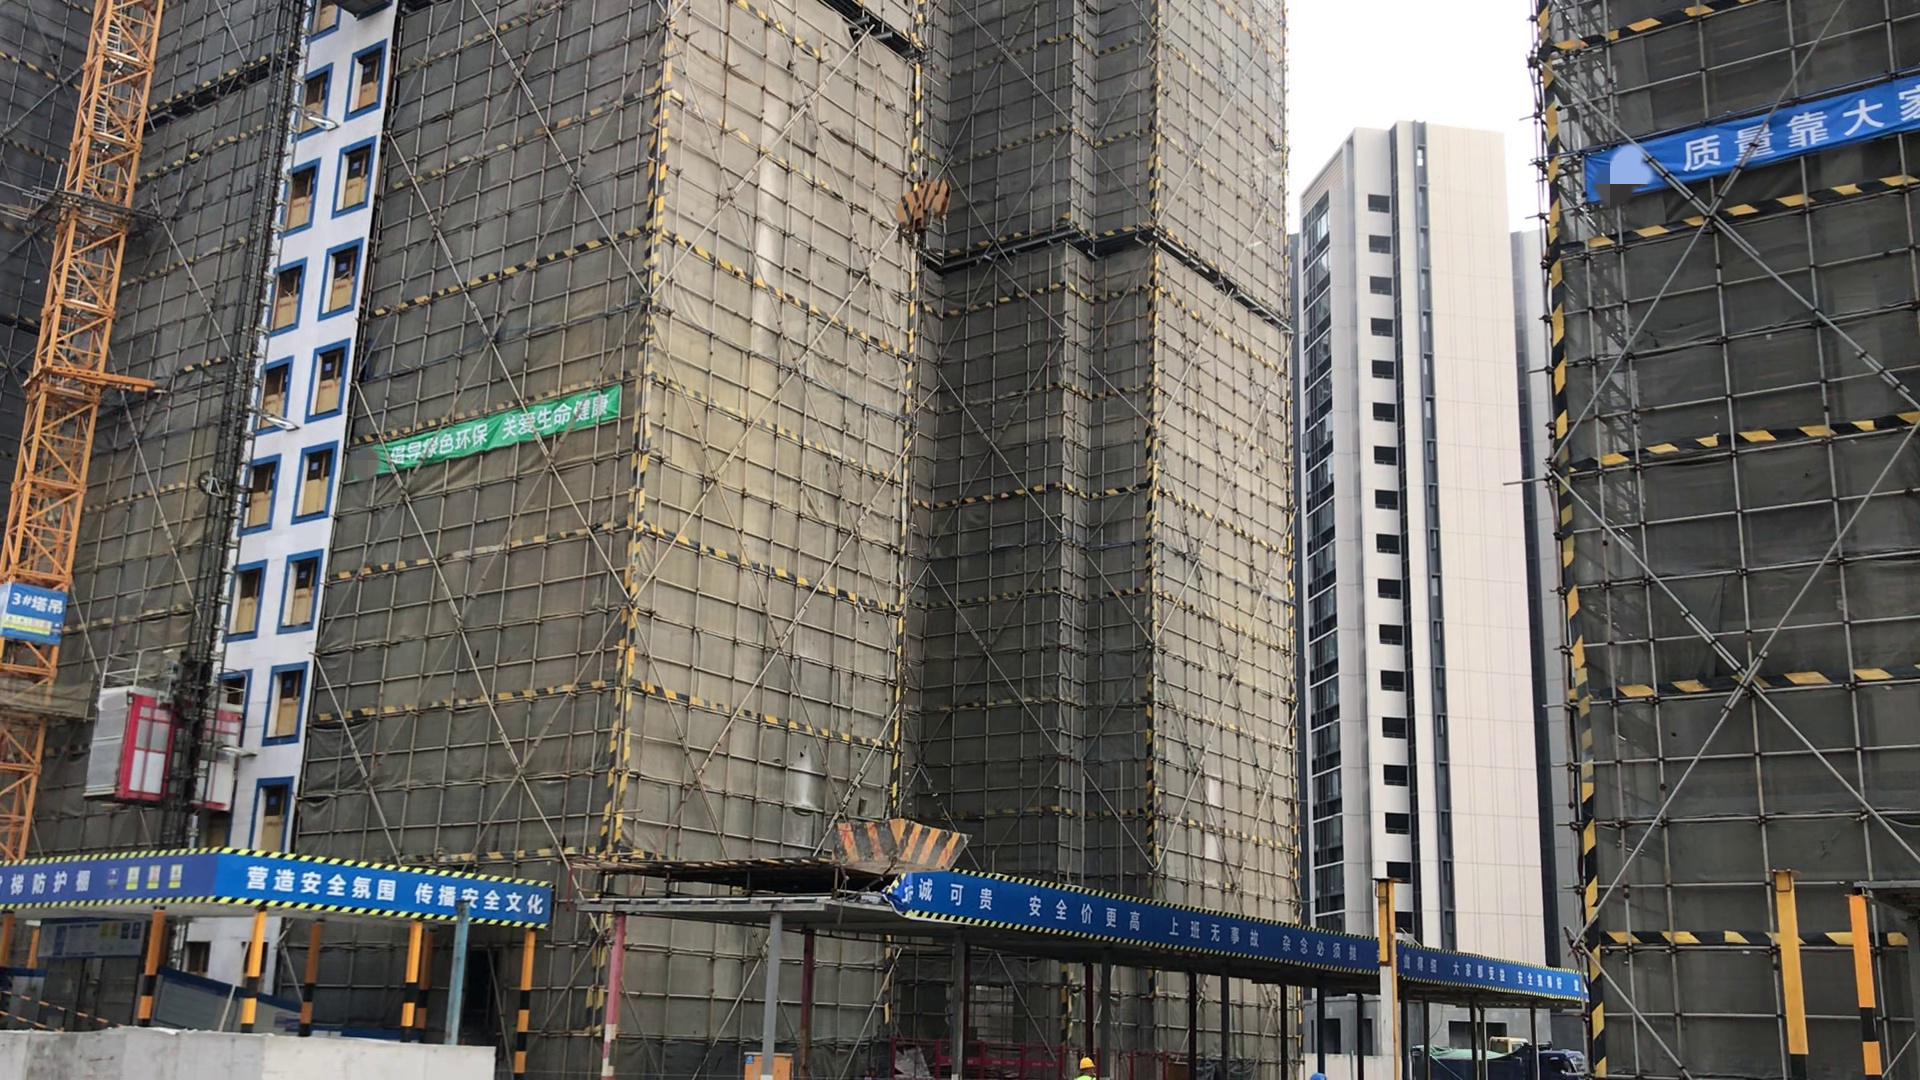ebox: (733, 1046, 800, 1080)
helmet: (1077, 1056, 1097, 1068)
hook: (887, 167, 957, 251)
hopper: (825, 814, 973, 878)
slogan: (895, 864, 1586, 990), (1605, 84, 1920, 212), (349, 376, 622, 487), (223, 849, 545, 923), (1, 849, 224, 903)
